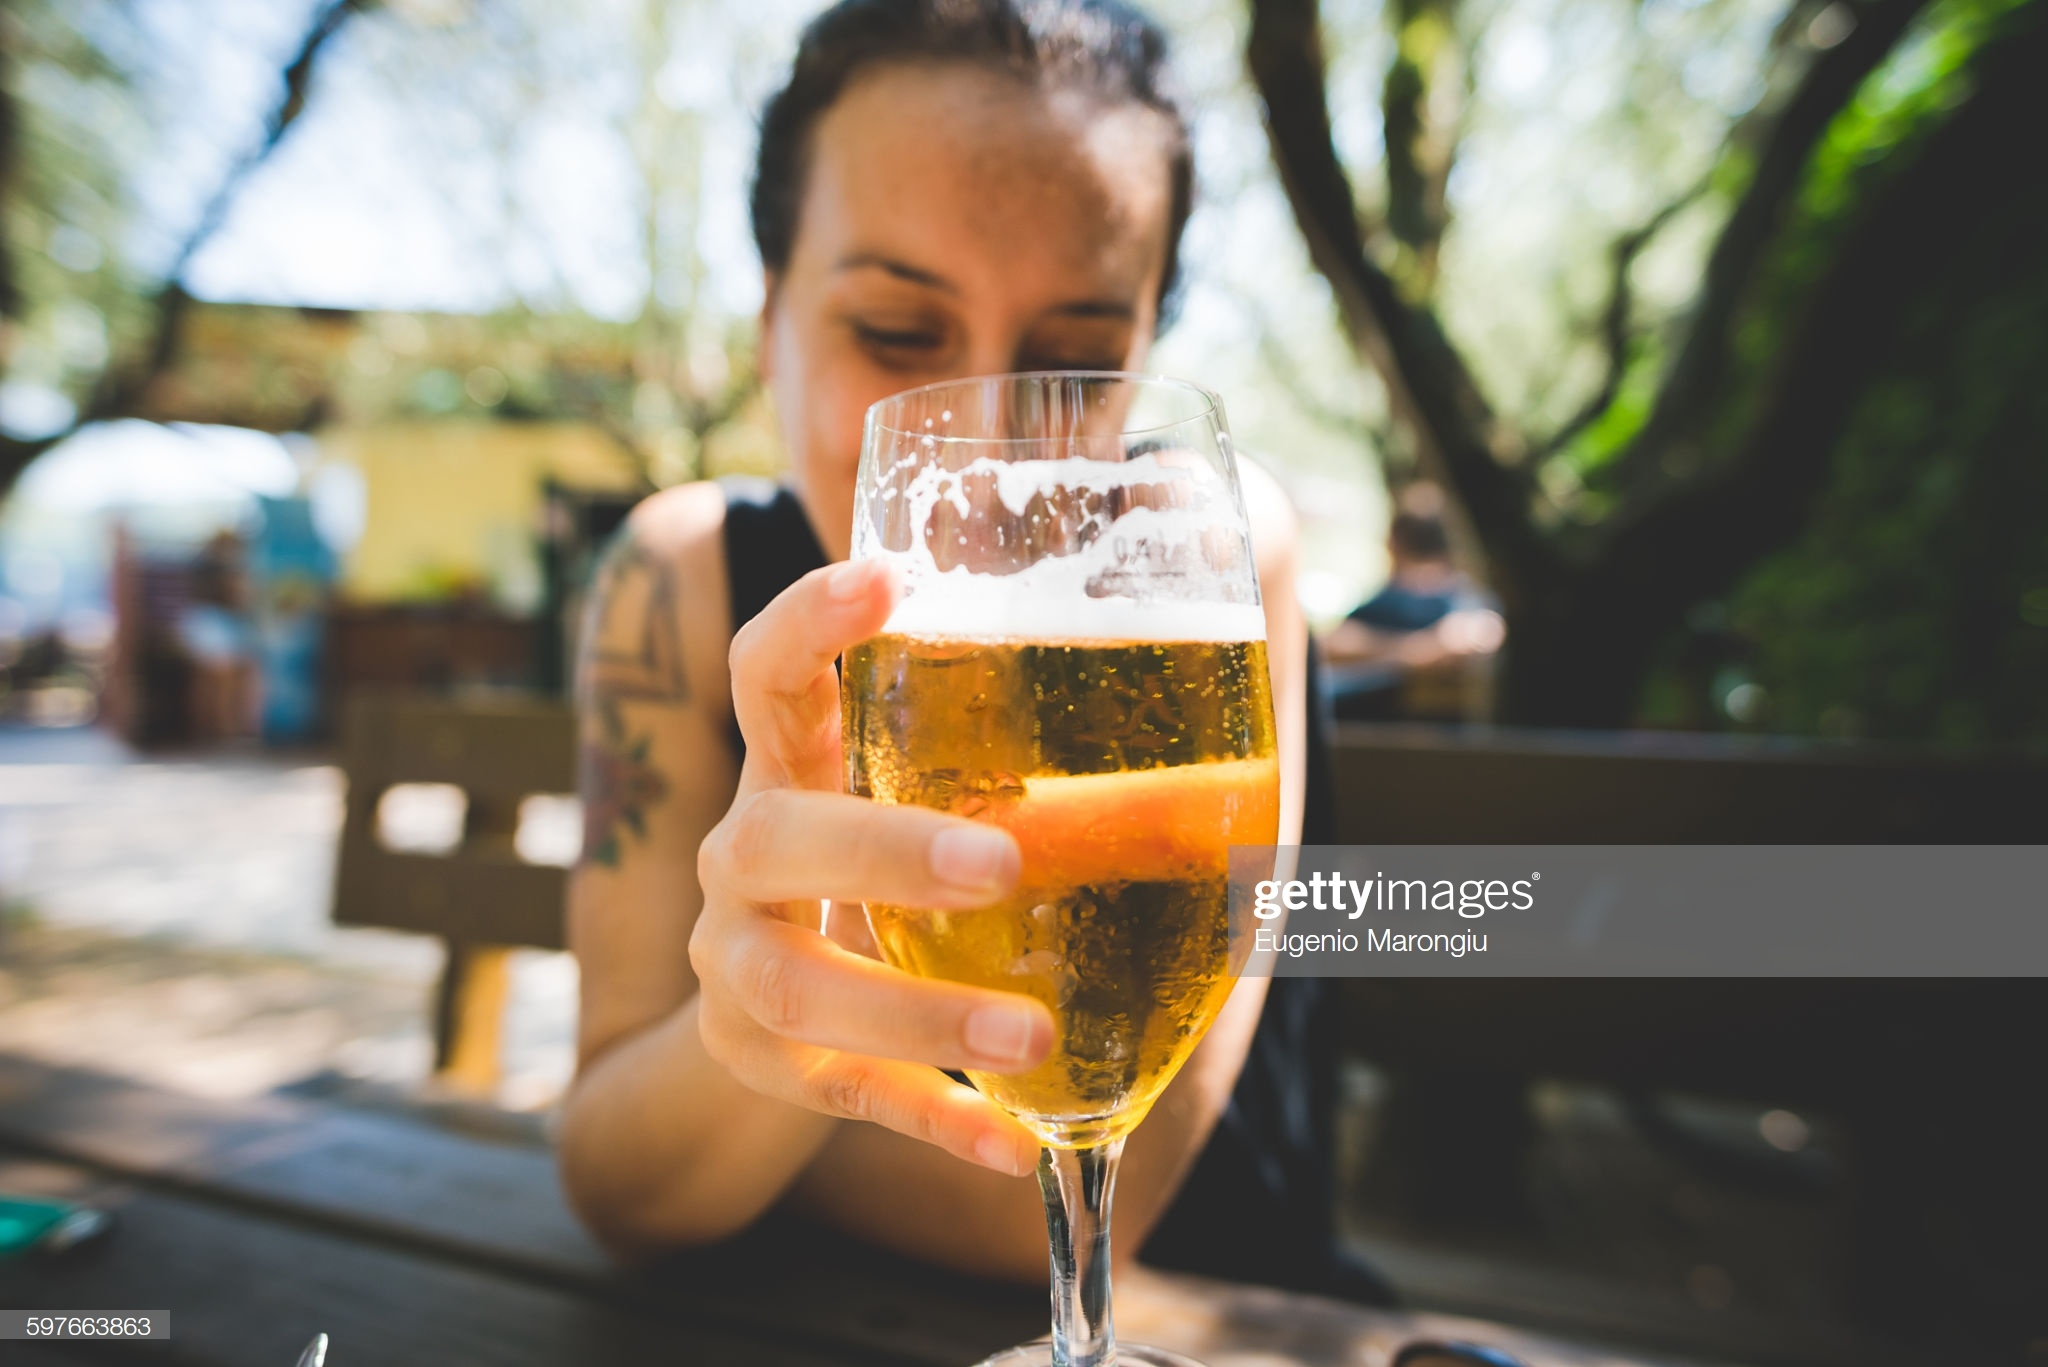glassBeer: (836, 368, 1286, 1224)
